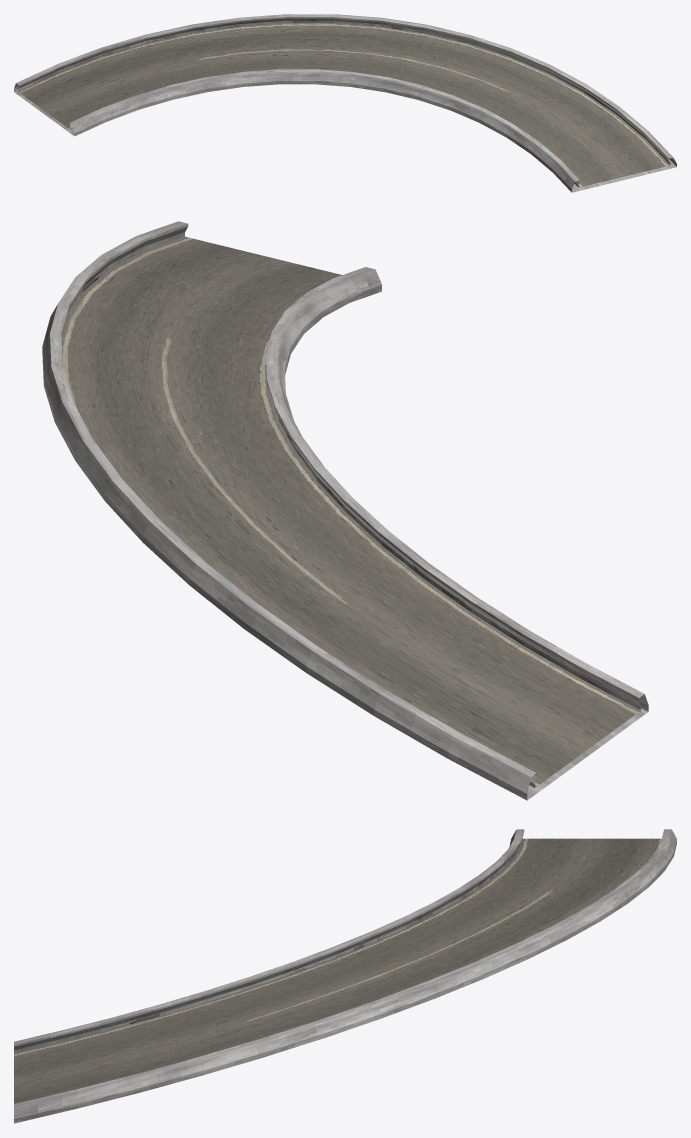
Rendered from turn-left4x4.glb.
The picture shows the model from 3 angles, top to bottom: view 1: azimuth 30°, elevation 25°; view 2: azimuth 150°, elevation 25°; view 3: azimuth 270°, elevation 25°; orthographic projection. The views are drawn at different scales.
Parts seen in each view (by area): view 1: road-Turn-BiSlopeUp-BiSlopeDown-Even-Left-Size4; view 2: road-Turn-BiSlopeUp-BiSlopeDown-Even-Left-Size4; view 3: road-Turn-BiSlopeUp-BiSlopeDown-Even-Left-Size4.
Part boxes in pixels (bbox=[...]): road-Turn-BiSlopeUp-BiSlopeDown-Even-Left-Size4: bbox=[14, 14, 676, 192]; road-Turn-BiSlopeUp-BiSlopeDown-Even-Left-Size4: bbox=[42, 221, 648, 800]; road-Turn-BiSlopeUp-BiSlopeDown-Even-Left-Size4: bbox=[14, 829, 676, 1123].
Bounding box in the file's own units: 4 × 0.5046 × 4.
Materials: 2 (2 with a texture image).
